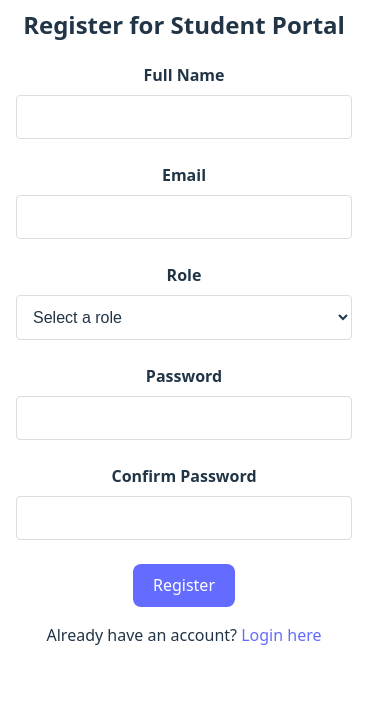
RegisterPage › should show validation error for password mismatch
This screenshot has width=369, height=714.
Step 1. Type "password123" into the password field labelled "Password" → (184, 418), box x1=16 y1=396 x2=352 y2=440
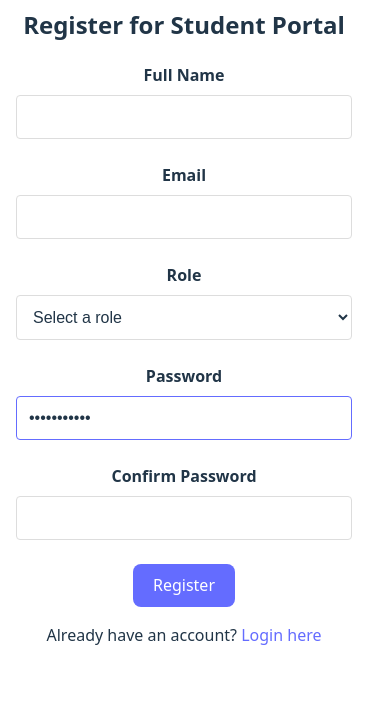
Step 2. Type "different123" into the password field labelled "Confirm Password" → (184, 518), box x1=16 y1=496 x2=352 y2=540
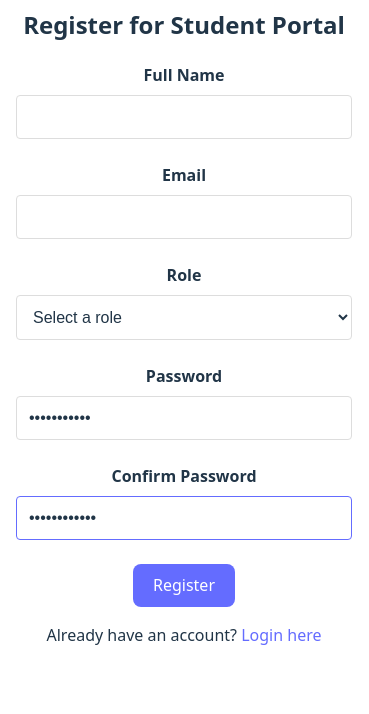
Step 3. Submit the form
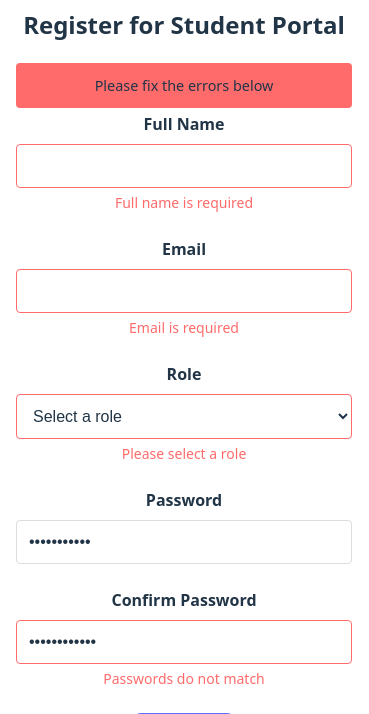
expect the text "Passwords do not match" is shown: met, box x1=103 y1=669 x2=265 y2=688
